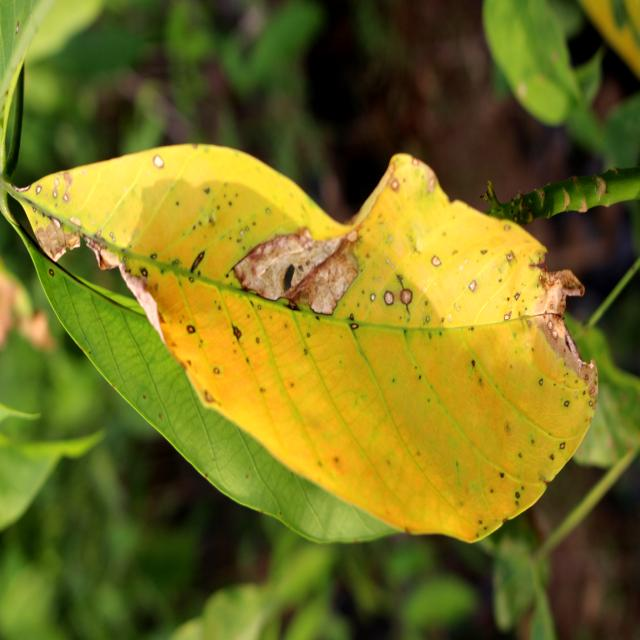Colletotrichum: (401, 289, 412, 305), (384, 291, 394, 306), (431, 255, 441, 268), (469, 280, 476, 291), (187, 325, 195, 334), (350, 323, 359, 330), (141, 268, 148, 277), (36, 186, 42, 194), (370, 294, 376, 302), (559, 442, 565, 450), (564, 400, 570, 407), (49, 268, 54, 276), (188, 276, 194, 282), (539, 378, 543, 386)
Corynespora: (395, 274, 405, 290)
Leaf-Blight: (231, 228, 360, 316), (530, 269, 598, 402), (84, 238, 164, 344), (36, 221, 81, 261)
